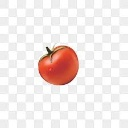tomato: (39, 47, 79, 85)
